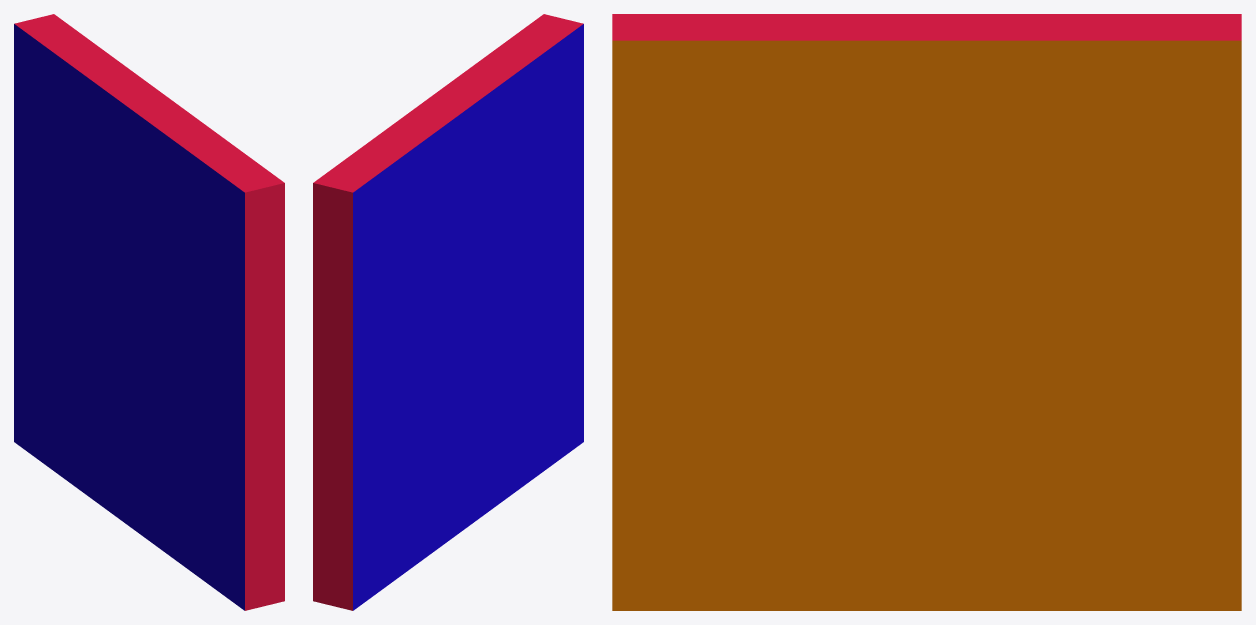
File: Wall_Base_Unfractured.fbx
3 renders of one model, left to right at view 1: azimuth 30°, elevation 25°; view 2: azimuth 150°, elevation 25°; view 3: azimuth 270°, elevation 25°, orthographic. The views are drawn at different scales.
Visible parts, largest first — view 1: Wall; view 2: Wall; view 3: Wall.
Boxes of the visible parts, x1,y1,x2,y2 form: Wall: (14,14,284,610); Wall: (313,14,583,610); Wall: (612,14,1241,610).
Size of the model in its own units: 100 by 1000 by 1000.
